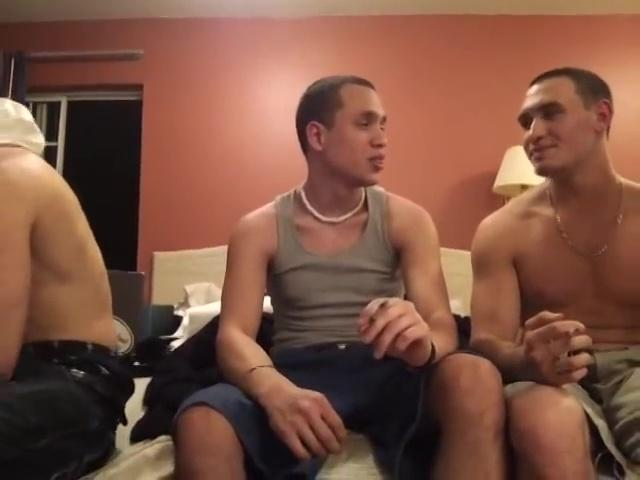cigarette: (365, 297, 391, 325), (564, 326, 582, 337)
